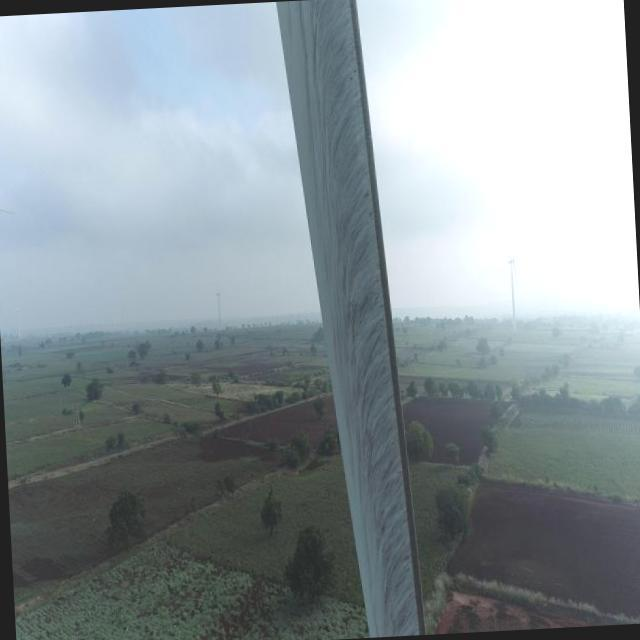Dirt: (281, 0, 423, 638)
